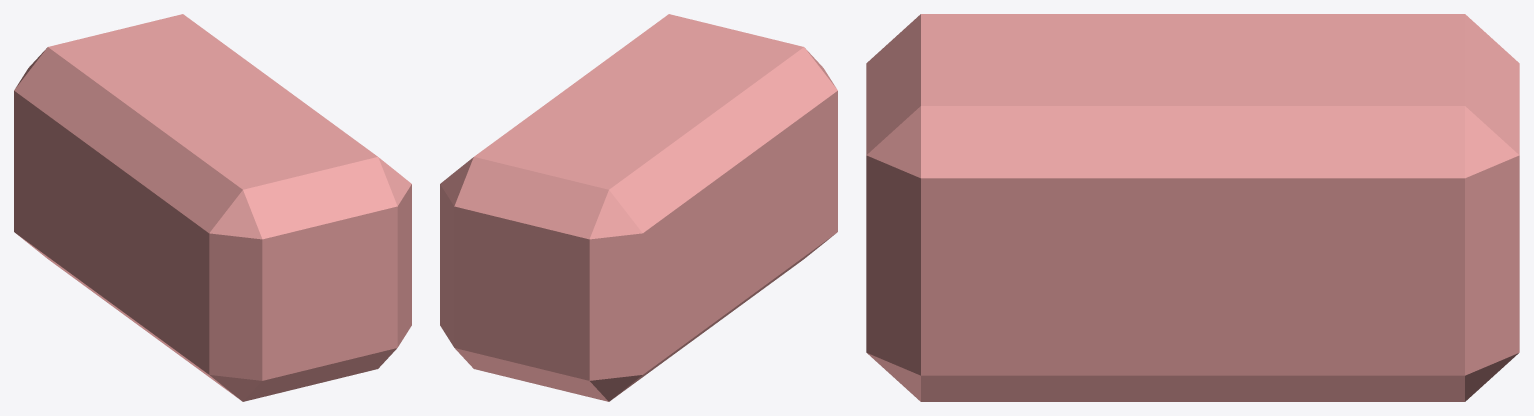
The model's file is Pig_Arm.glb.
3 renders of one model, left to right at view 1: azimuth 30°, elevation 25°; view 2: azimuth 150°, elevation 25°; view 3: azimuth 270°, elevation 25°, orthographic. The views are drawn at different scales.
Parts seen in each view (by area): view 1: pl0; view 2: pl0; view 3: pl0.
Boxes of the visible parts, x1,y1,x2,y2 form: pl0: (14, 14, 411, 401); pl0: (440, 14, 837, 401); pl0: (866, 14, 1519, 401).
Size of the model in its own units: 0.3 by 0.3 by 0.6.
Materials: 1 (1 with a texture image).
